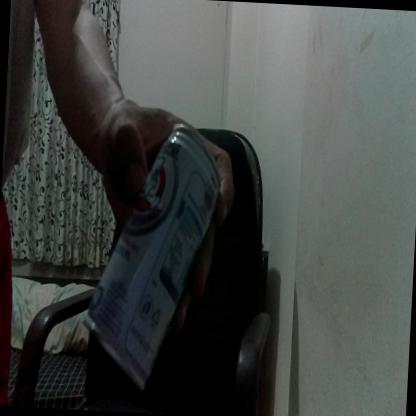alumunium_can: (92, 118, 221, 388)
